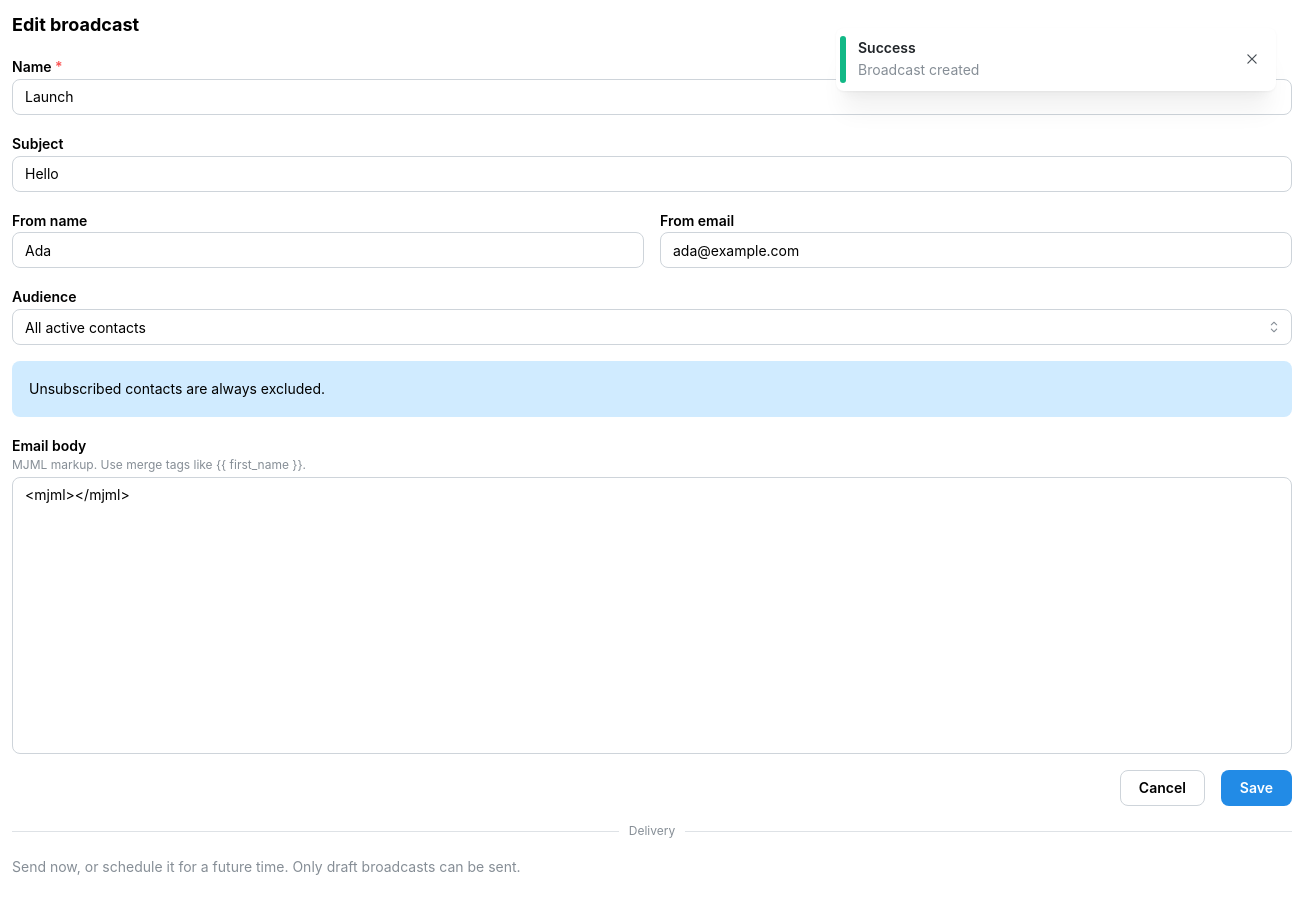
Test: editing a draft; a cleared sender name is sent as null and the audience is cleared too
The image size is (1304, 898).
expect the field labelled "Name *" holds "Launch": met, box [12,79,1292,115]
Clear the field labelled "From name". click: (328, 250)
box: [12,232,644,268]
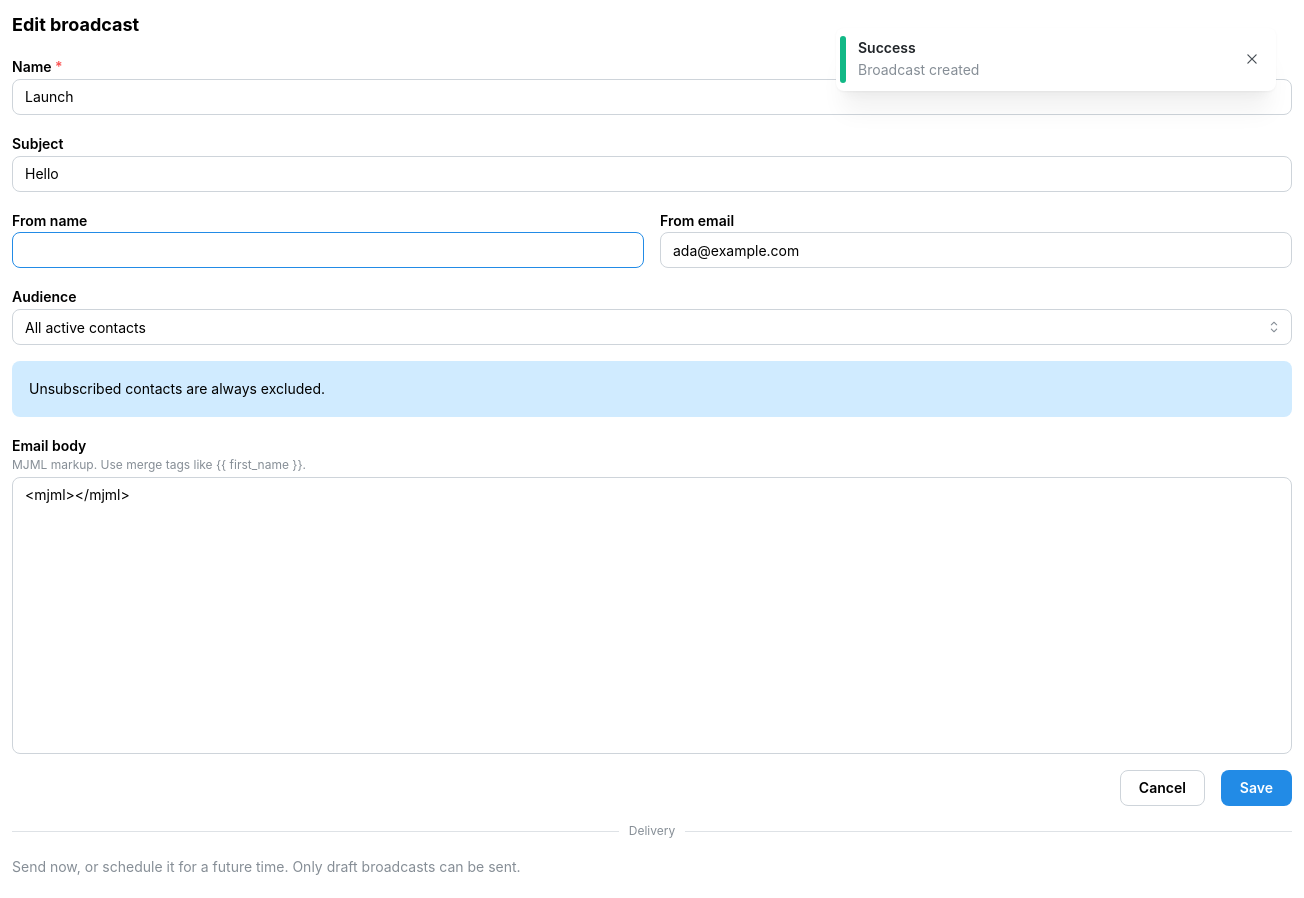
Click the button "Save". click: (1256, 788)
box: [1221,770,1292,806]
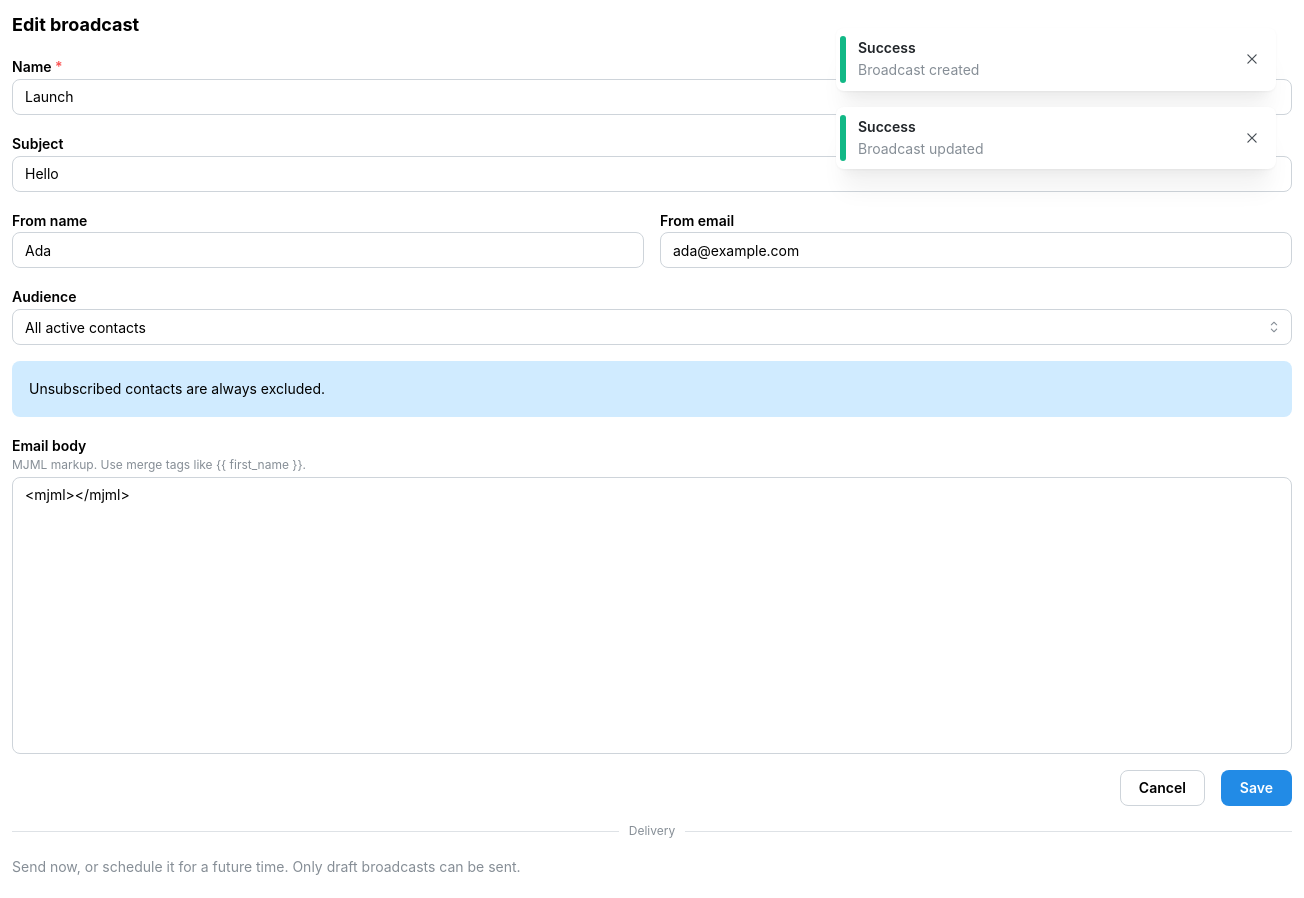
expect the text "Broadcast updated" is shown: met, box [858,140,984,157]
